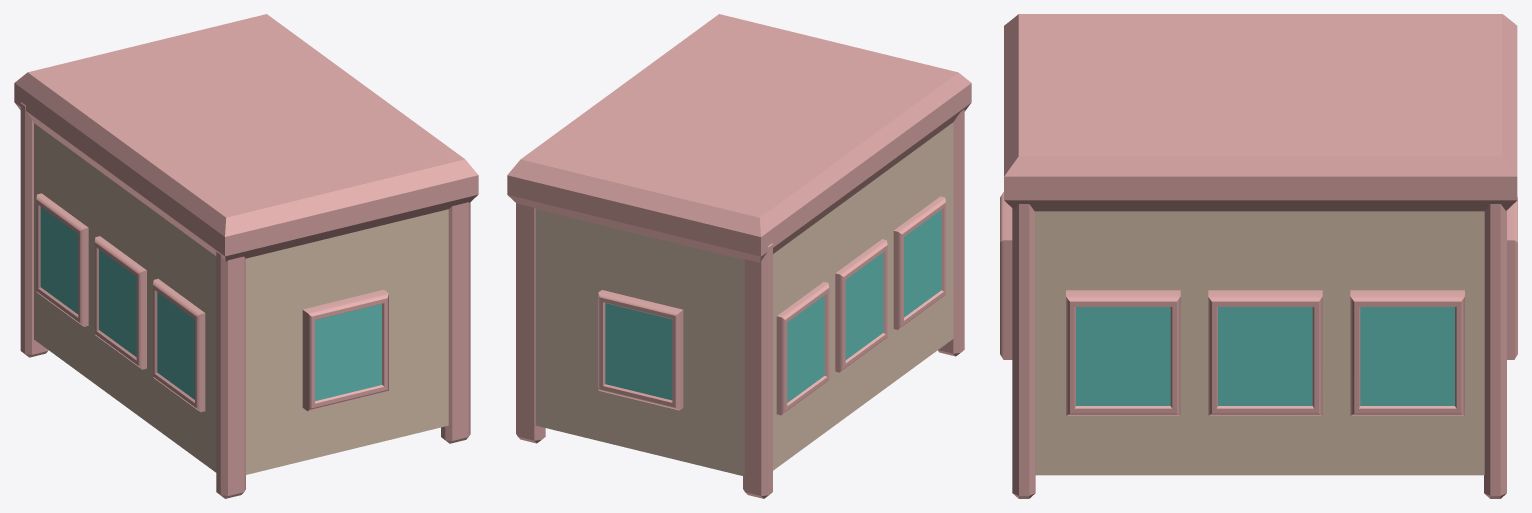
File: HouseLevelTextured.fbx
3 renders of one model, left to right at view 1: azimuth 30°, elevation 25°; view 2: azimuth 150°, elevation 25°; view 3: azimuth 270°, elevation 25°, orthographic. The views are drawn at different scales.
Parts seen in each view (by area): view 1: pCube74, pCube83, pCube79, pCube77, pCube82, pCube80, pCube81, pCube78; view 2: pCube74, pCube87, pCube78, pCube80, pCube82, pCube81, pCube76, pCube79; view 3: pCube74, pCube84, pCube85, pCube86, pCube77, pCube76, pCube83, pCube87.
Part boxes in pixels (bbox=[...]): pCube74: bbox=[14, 14, 478, 474]; pCube83: bbox=[302, 289, 388, 411]; pCube79: bbox=[216, 252, 245, 498]; pCube77: bbox=[441, 202, 470, 443]; pCube82: bbox=[153, 278, 205, 412]; pCube80: bbox=[36, 193, 88, 326]; pCube81: bbox=[94, 236, 146, 369]; pCube78: bbox=[20, 102, 48, 357]; pCube74: bbox=[507, 14, 971, 476]; pCube87: bbox=[598, 290, 683, 410]; pCube78: bbox=[743, 243, 772, 498]; pCube80: bbox=[776, 282, 829, 415]; pCube82: bbox=[893, 196, 945, 329]; pCube81: bbox=[835, 239, 887, 372]; pCube76: bbox=[516, 203, 545, 443]; pCube79: bbox=[938, 109, 964, 356]; pCube74: bbox=[1004, 14, 1517, 475]; pCube84: bbox=[1066, 290, 1180, 415]; pCube85: bbox=[1208, 290, 1322, 415]; pCube86: bbox=[1350, 290, 1464, 415]; pCube77: bbox=[1012, 204, 1035, 498]; pCube76: bbox=[1484, 204, 1506, 498]; pCube83: bbox=[1000, 192, 1012, 359]; pCube87: bbox=[1507, 197, 1517, 359].
Size of the model in its own units: 12.11 by 12.42 by 17.02.
